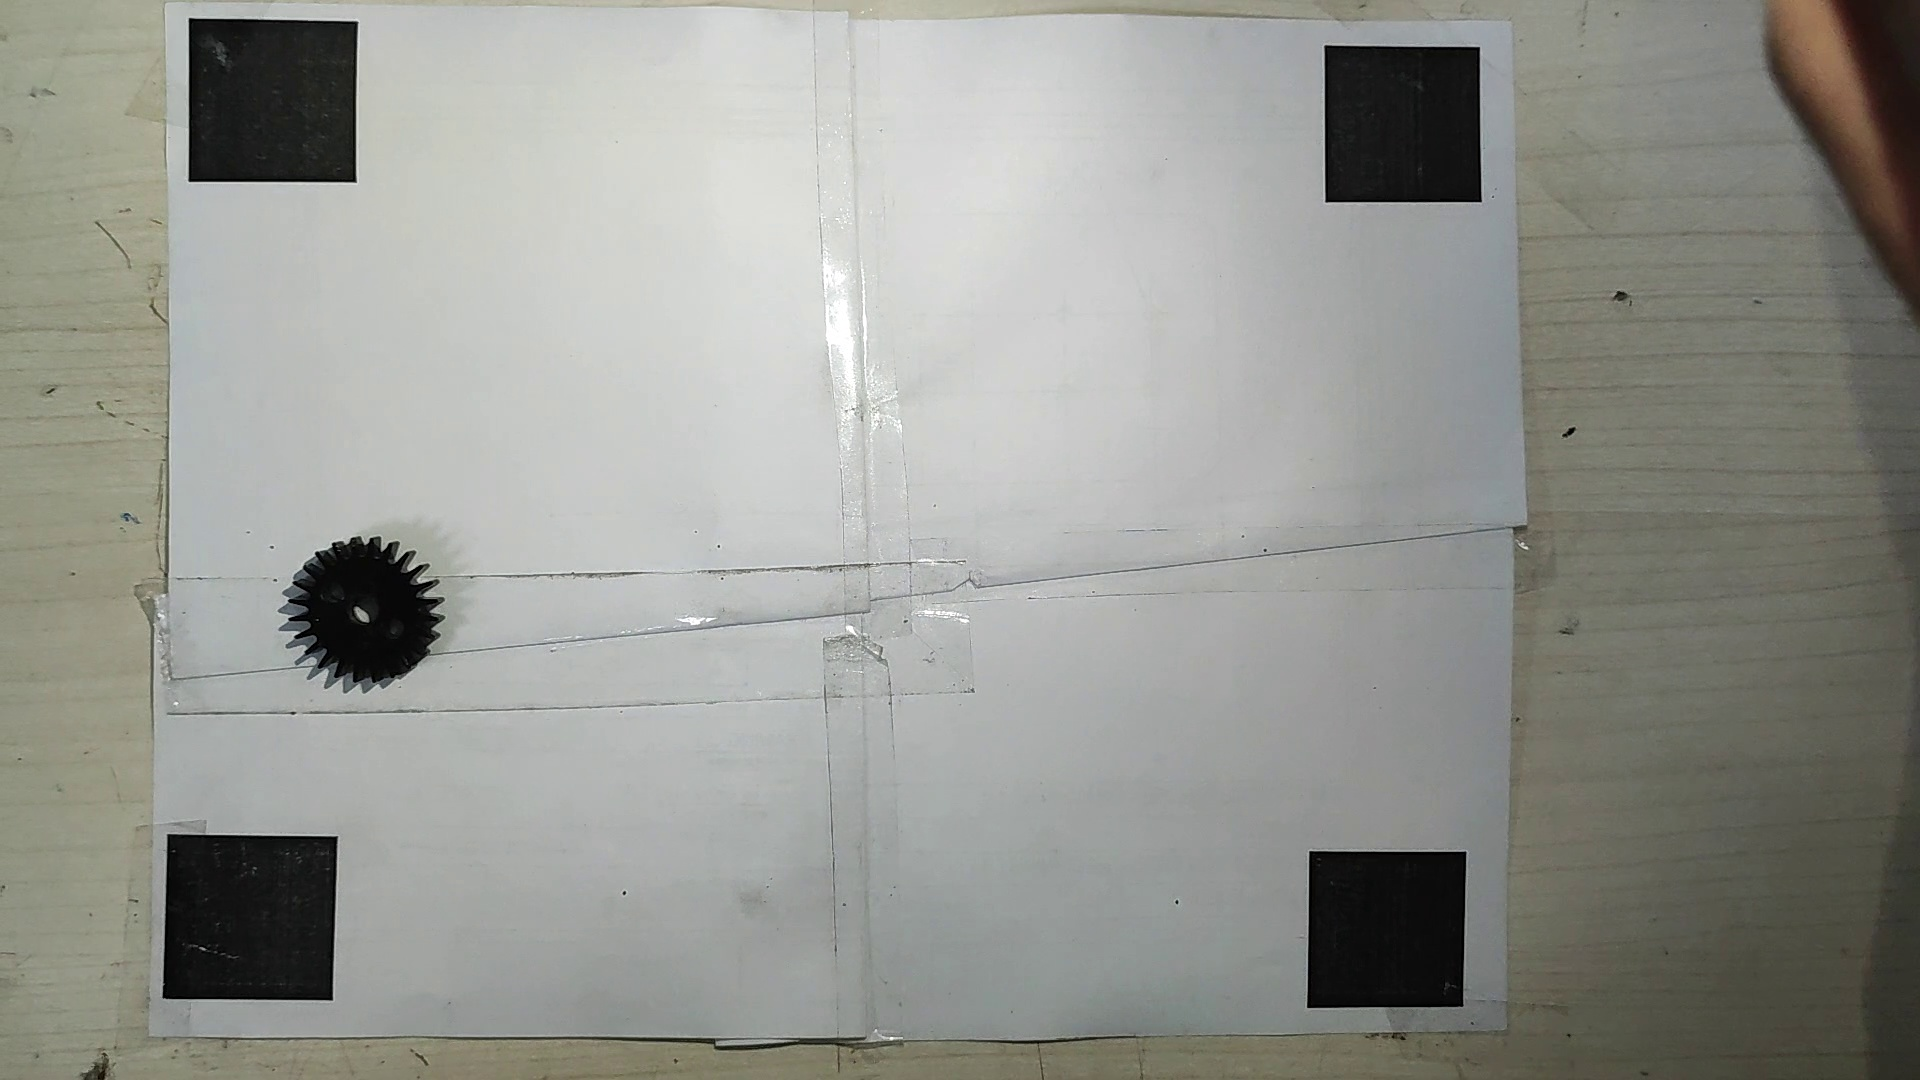Gear: (283, 533, 453, 689)
